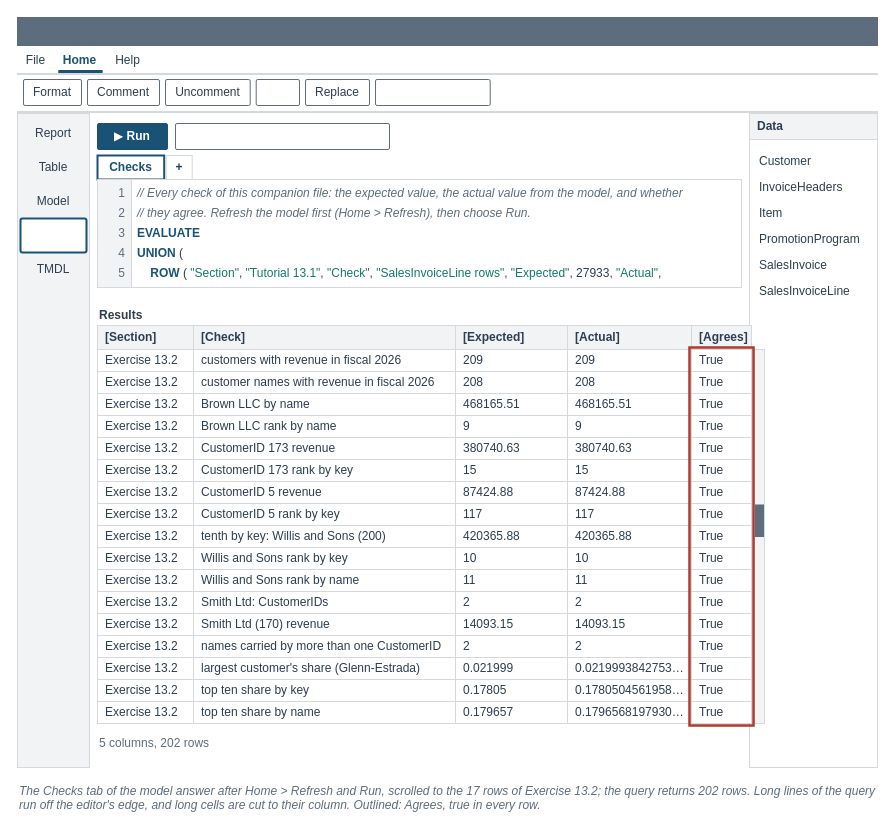
Image size: 895x835. Some labels were removed from this diagram. The centre of each missing label's shape, as x and y in pixels:
Chapter 13 Exercises - Solutions - Power BI Desktop: the point at 447,31
Command palette: the point at 432,92
DAX query: the point at 53,235
Find: the point at 277,92
Update model with changes (0): the point at 282,136
